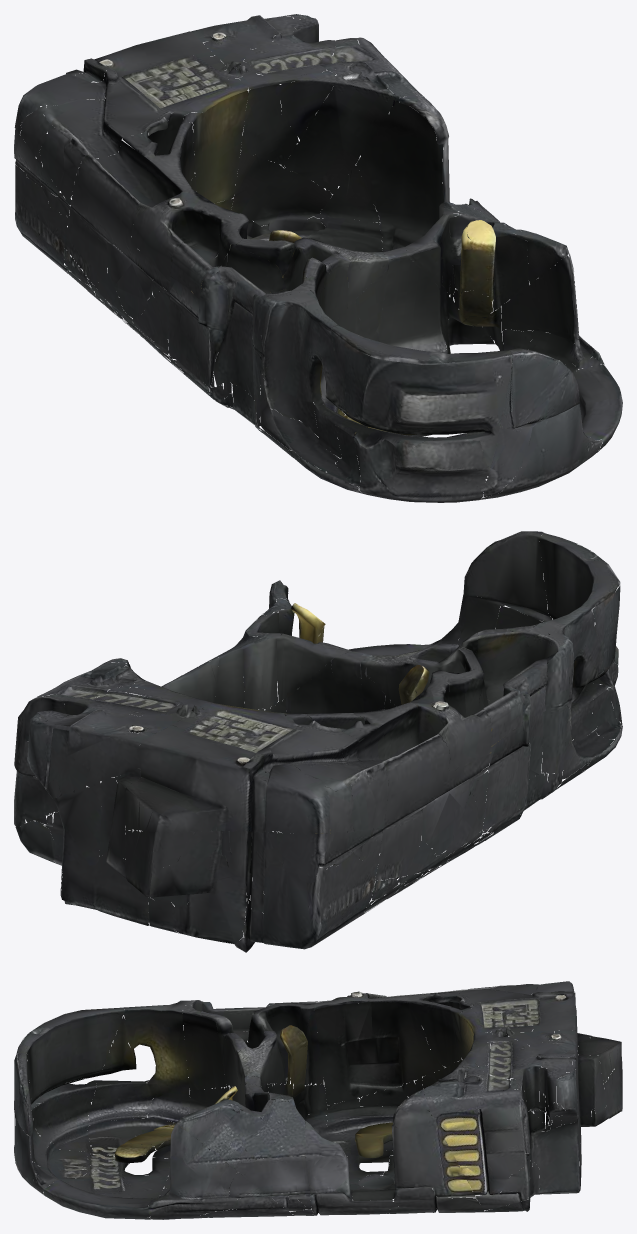
File: cadre-pile.glb
3 views of the same model, one above another, from view 1: azimuth 30°, elevation 25°; view 2: azimuth 150°, elevation 25°; view 3: azimuth 270°, elevation 25° (orthographic). The views are drawn at different scales.
Visible parts, largest first — view 1: tripo_node_0150dc5f-7bd6-450c-8c95-ee653d53c40a; view 2: tripo_node_0150dc5f-7bd6-450c-8c95-ee653d53c40a; view 3: tripo_node_0150dc5f-7bd6-450c-8c95-ee653d53c40a.
Boxes of the visible parts, box(x1,y1,x2,y2) form: tripo_node_0150dc5f-7bd6-450c-8c95-ee653d53c40a: box(14, 14, 622, 502); tripo_node_0150dc5f-7bd6-450c-8c95-ee653d53c40a: box(14, 531, 622, 952); tripo_node_0150dc5f-7bd6-450c-8c95-ee653d53c40a: box(14, 981, 622, 1219).
Size of the model in its own units: 0.4917 by 0.2719 by 0.9793.
Materials: 1 (1 with a texture image).
